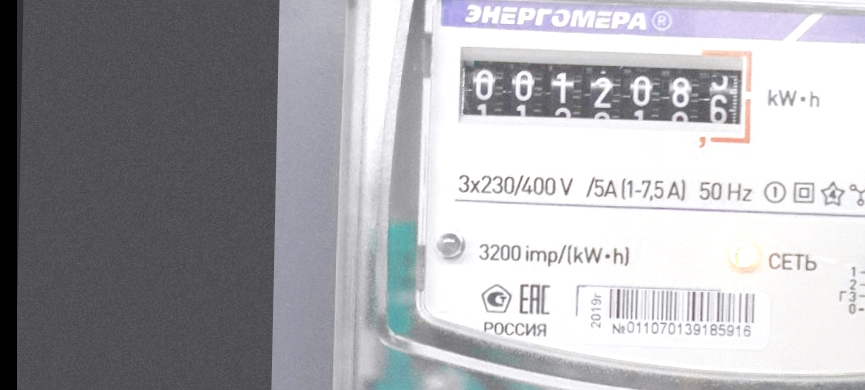0: (630, 71, 656, 107), (513, 65, 537, 102), (475, 64, 496, 102)
1: (554, 68, 572, 105)
2: (591, 74, 617, 109)
6: (707, 89, 731, 124)
8: (669, 73, 693, 110)
screen: (449, 34, 763, 158)
